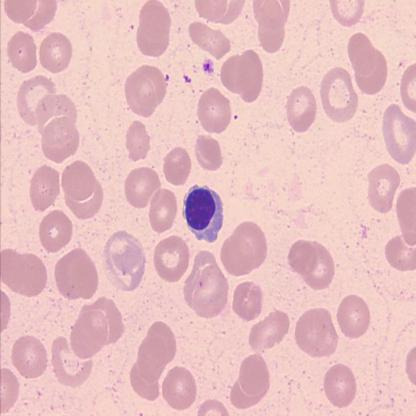NRC: (180, 182, 225, 245)
